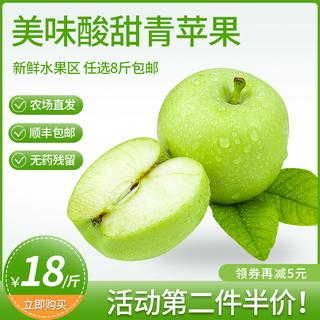unripe: (153, 66, 293, 207)
